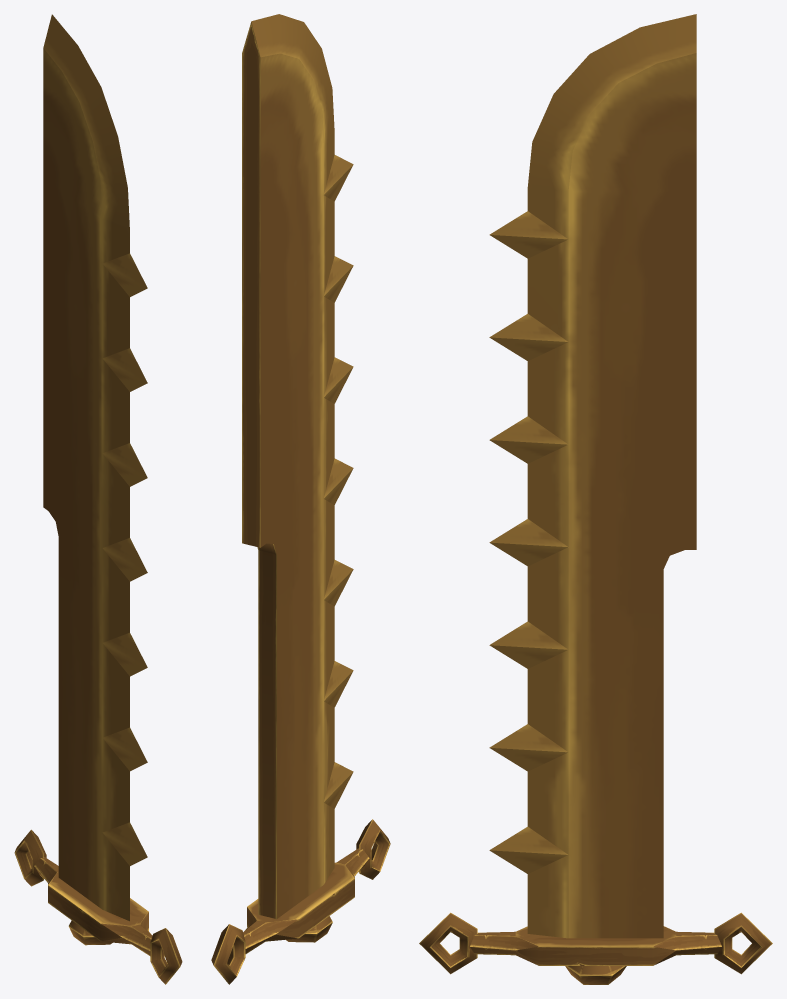
File: SM_WEP_head_sword_battle_30.fbx
3 renders of one model, left to right at view 1: azimuth 30°, elevation 25°; view 2: azimuth 150°, elevation 25°; view 3: azimuth 270°, elevation 25°, orthographic. The views are drawn at different scales.
Parts seen in each view (by area): view 1: SM_WEP_head_sword_battle_30; view 2: SM_WEP_head_sword_battle_30; view 3: SM_WEP_head_sword_battle_30.
Part boxes in pixels (x1,y1,x2,y2): SM_WEP_head_sword_battle_30: (14,14,182,984); SM_WEP_head_sword_battle_30: (211,14,390,984); SM_WEP_head_sword_battle_30: (419,14,772,984).
Size of the model in its own units: 7.51 by 131 by 43.87.
